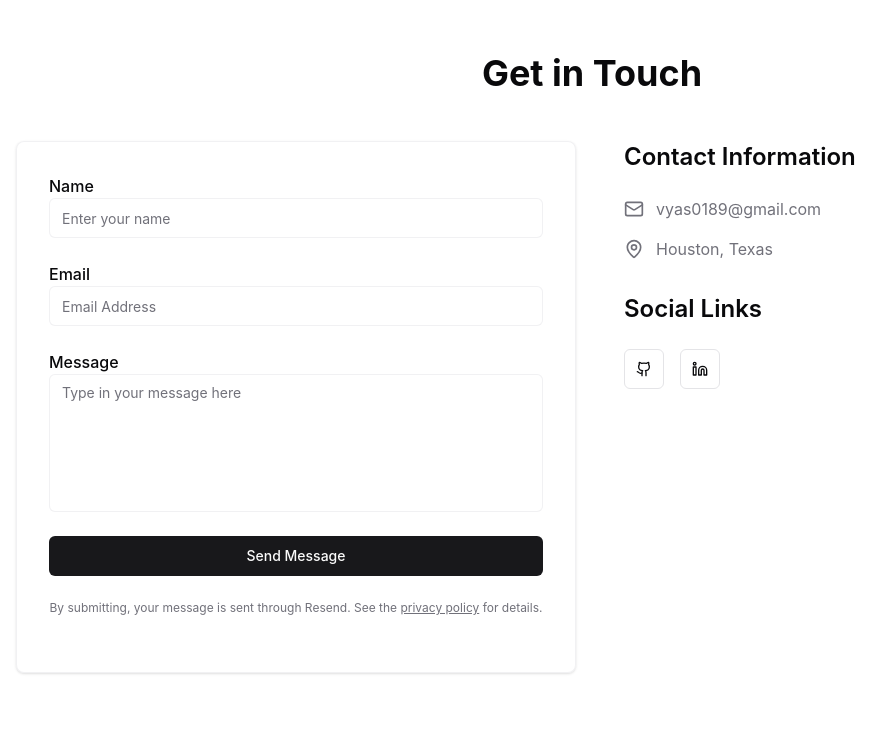
ContactForm › submitting empty form shows three validation messages
Click the button "Send Message" at (296, 556), box [49,536,543,576]
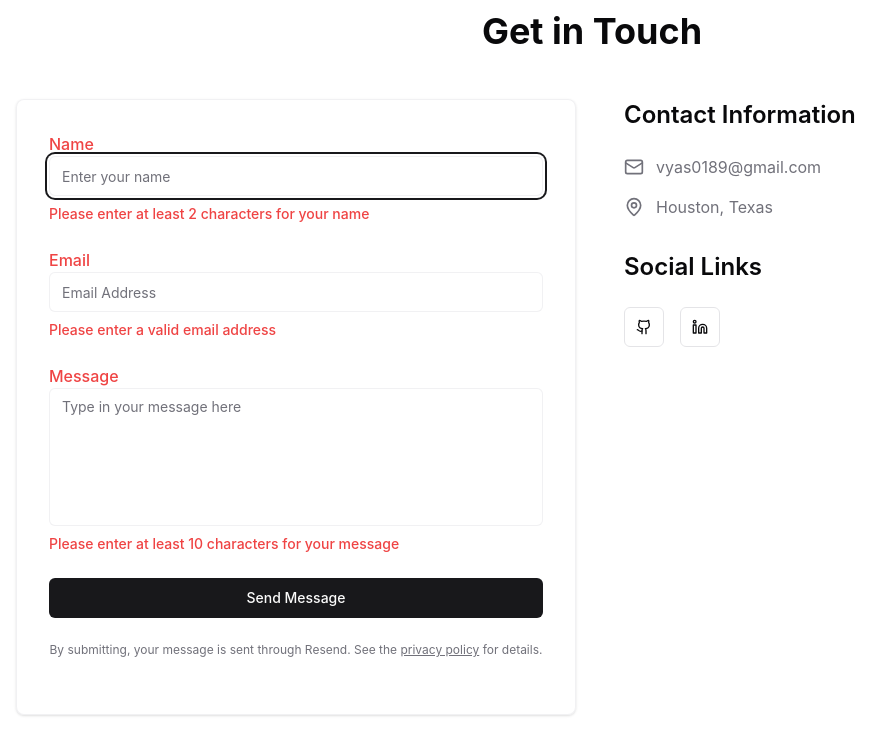
expect the text "Please enter at least 2 characters for your name" is shown: met, box [49,205,369,222]
expect the text "Please enter a valid email address" is shown: met, box [49,321,276,338]
expect the text "Please enter at least 10 characters for your message" is shown: met, box [49,535,399,552]
